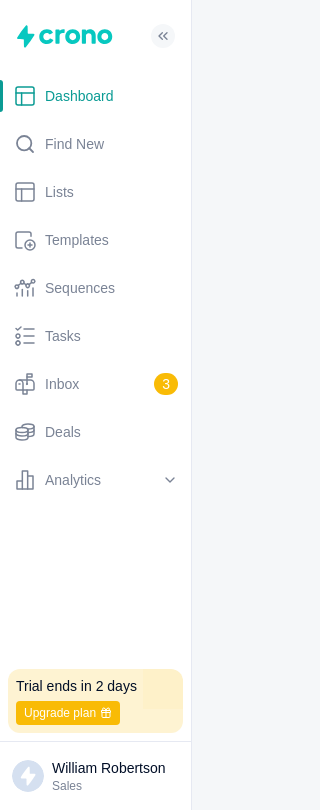
it: Sidebar › should collapse and expand the complete sidebar navigation
This screenshot has width=320, height=810.
Expected: the navigation bar named "Main navigation" is shown, [0,80,191,496]
Expected: the text "Dashboard" is shown, [45,87,114,105]
Click the button named "Collapse sidebar" at point(163, 36), box [151,24,175,48]
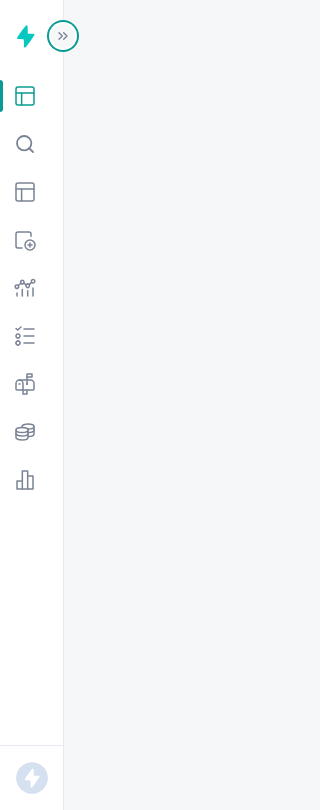
Result: the button named "Expand sidebar" is collapsed
Result: the text "Dashboard" is gone
Result: the text "Trial ends in 2 days" is gone
Click the button named "Expand sidebar" at point(63, 36), box [51,24,75,48]
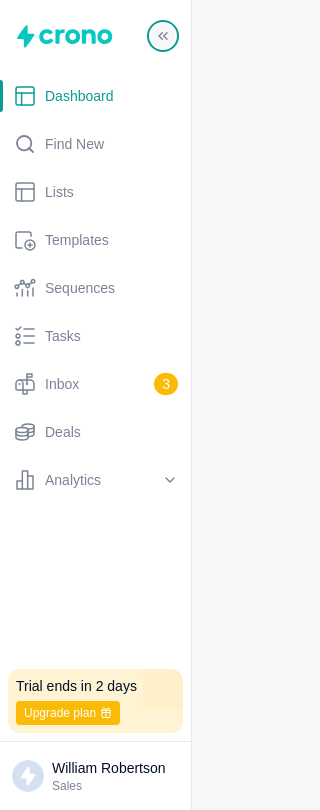
Result: the button named "Collapse sidebar" is expanded at [151,24,175,48]
Result: the text "Dashboard" is shown at [45,87,114,105]
Result: the text "Trial ends in 2 days" is shown at [16,677,137,695]
